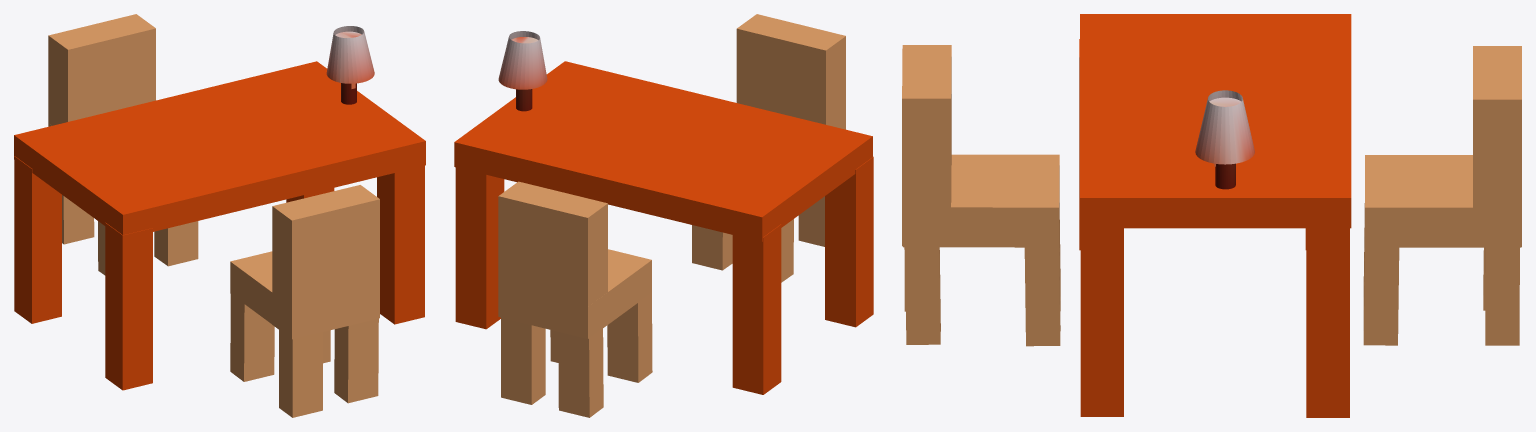
The model's file is hus.fbx.
3 views of the same model, side by side, from view 1: azimuth 30°, elevation 25°; view 2: azimuth 150°, elevation 25°; view 3: azimuth 270°, elevation 25° (orthographic). The views are drawn at different scales.
Visible parts, largest first — view 1: Cube, Cube.010, Cube.018, Cylinder.001; view 2: Cube, Cube.018, Cube.010, Cylinder.001; view 3: Cube, Cube.010, Cube.018, Cylinder.001.
Part boxes in pixels (bbox=[...]): Cube: bbox=[14, 61, 425, 390]; Cube.010: bbox=[230, 185, 379, 417]; Cube.018: bbox=[48, 14, 198, 275]; Cylinder.001: bbox=[326, 26, 374, 104]; Cube: bbox=[454, 61, 873, 394]; Cube.018: bbox=[498, 181, 652, 417]; Cube.010: bbox=[692, 14, 845, 282]; Cylinder.001: bbox=[498, 31, 547, 111]; Cube: bbox=[1079, 14, 1351, 417]; Cube.010: bbox=[902, 45, 1060, 346]; Cube.018: bbox=[1363, 46, 1521, 345]; Cylinder.001: bbox=[1195, 90, 1254, 189].
Size of the model in its own units: 369 by 284 by 517.
